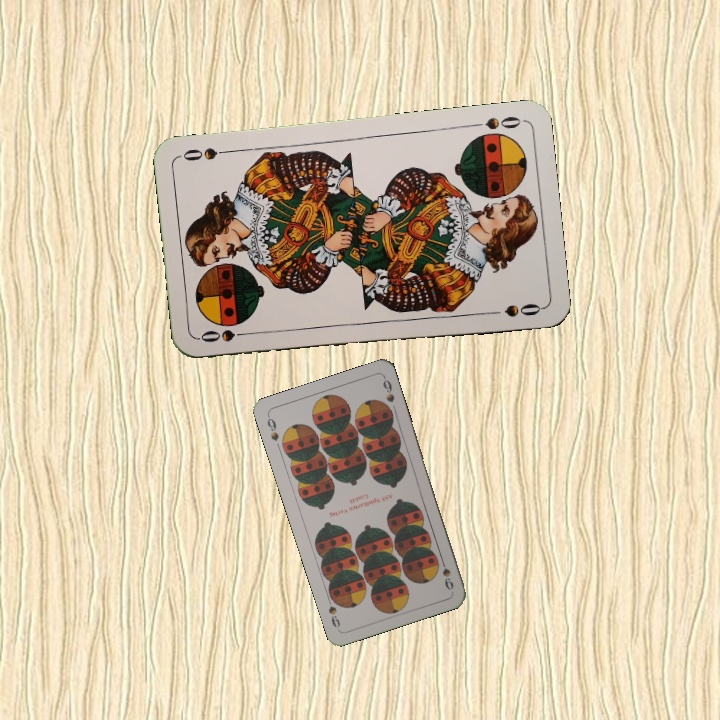S9: (436, 553, 456, 593), (263, 412, 281, 444)
SO: (466, 112, 523, 133), (196, 326, 256, 345)
